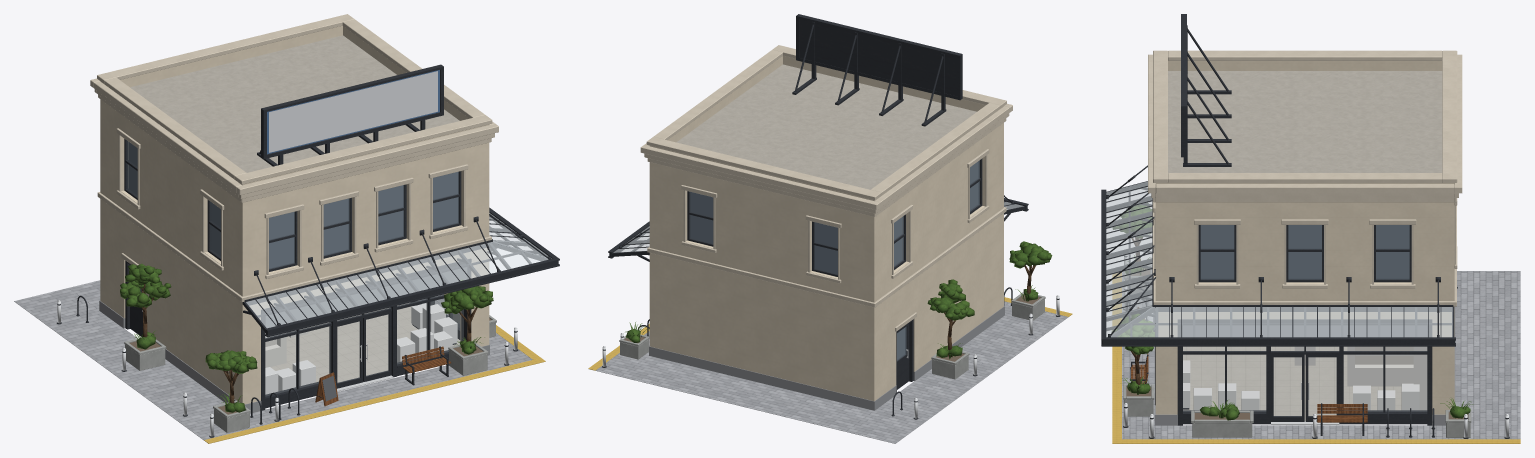
File: shop_canopy_storefront_2story.glb
The picture shows the model from 3 angles, left to right: view 1: azimuth 30°, elevation 25°; view 2: azimuth 150°, elevation 25°; view 3: azimuth 270°, elevation 25°; orthographic projection. The views are drawn at different scales.
Visible parts, largest first — view 1: Floor2_Walls_Stucco_Cream_Limestone, Cornice_Trim_Stone_Limestone_Trim, Roof_Deck_Roof_Gravel_Membrane, GF_Walls_Stucco_Cream_Limestone, Sidewalk_Granite_Sidewalk_Granite_Pavers, Canopy_FrostedGlass_Glass_Canopy_Frosted, Storefront_Glass_Glass_Storefront_Clear, Canopy_Steel_Metal_Anthracite_Steel, rooftop_billboard_face, Floor2_Trim_Stone_Limestone_Trim, Floor2_WinGlass_Glass_Upper_Window, Floor2_WinBacking_Upper_Window_Interior (+19 smaller); view 2: GF_Walls_Stucco_Cream_Limestone, Floor2_Walls_Stucco_Cream_Limestone, Roof_Deck_Roof_Gravel_Membrane, Sidewalk_Granite_Sidewalk_Granite_Pavers, Cornice_Trim_Stone_Limestone_Trim, Rooftop_Sign_Frame_Metal_Anthracite_Steel, Floor2_Trim_Stone_Limestone_Trim, GF_Plinth_Plinth_Dark_Stone, Floor2_WinGlass_Glass_Upper_Window, Parapet_Walls_Stucco_Cream_Limestone, Floor2_WinBacking_Upper_Window_Interior, Planters_Concrete_Concrete_Urban (+6 smaller); view 3: Roof_Deck_Roof_Gravel_Membrane, Floor2_Walls_Stucco_Cream_Limestone, Cornice_Trim_Stone_Limestone_Trim, Sidewalk_Granite_Sidewalk_Granite_Pavers, Canopy_FrostedGlass_Glass_Canopy_Frosted, Storefront_Glass_Glass_Storefront_Clear, Canopy_Steel_Metal_Anthracite_Steel, Showroom_Floor_Showroom_Floor, GF_Walls_Stucco_Cream_Limestone, Floor2_WinGlass_Glass_Upper_Window, Storefront_Frame_Metal_Anthracite_Steel, Floor2_WinBacking_Upper_Window_Interior (+18 smaller).
Part boxes in pixels (bbox=[...]): Floor2_Walls_Stucco_Cream_Limestone: bbox=[100, 99, 489, 302]; Cornice_Trim_Stone_Limestone_Trim: bbox=[90, 14, 498, 202]; Roof_Deck_Roof_Gravel_Membrane: bbox=[130, 35, 459, 172]; GF_Walls_Stucco_Cream_Limestone: bbox=[100, 199, 489, 404]; Sidewalk_Granite_Sidewalk_Granite_Pavers: bbox=[14, 280, 532, 440]; Canopy_FrostedGlass_Glass_Canopy_Frosted: bbox=[246, 213, 551, 328]; Storefront_Glass_Glass_Storefront_Clear: bbox=[266, 294, 463, 395]; Canopy_Steel_Metal_Anthracite_Steel: bbox=[242, 207, 559, 337]; rooftop_billboard_face: bbox=[269, 71, 437, 152]; Floor2_Trim_Stone_Limestone_Trim: bbox=[97, 128, 491, 302]; Floor2_WinGlass_Glass_Upper_Window: bbox=[126, 141, 458, 269]; Floor2_WinBacking_Upper_Window_Interior: bbox=[128, 142, 457, 268]; GF_Walls_Stucco_Cream_Limestone: bbox=[649, 213, 1003, 401]; Floor2_Walls_Stucco_Cream_Limestone: bbox=[649, 123, 1003, 308]; Roof_Deck_Roof_Gravel_Membrane: bbox=[676, 64, 976, 189]; Sidewalk_Granite_Sidewalk_Granite_Pavers: bbox=[595, 301, 1068, 443]; Cornice_Trim_Stone_Limestone_Trim: bbox=[640, 45, 1012, 216]; Rooftop_Sign_Frame_Metal_Anthracite_Steel: bbox=[792, 14, 962, 126]; Floor2_Trim_Stone_Limestone_Trim: bbox=[647, 149, 1006, 307]; GF_Plinth_Plinth_Dark_Stone: bbox=[649, 306, 1004, 410]; Floor2_WinGlass_Glass_Upper_Window: bbox=[689, 160, 979, 274]; Parapet_Walls_Stucco_Cream_Limestone: bbox=[650, 55, 1003, 200]; Floor2_WinBacking_Upper_Window_Interior: bbox=[690, 161, 978, 273]; Planters_Concrete_Concrete_Urban: bbox=[619, 292, 1045, 379]; Roof_Deck_Roof_Gravel_Membrane: bbox=[1168, 71, 1442, 172]; Floor2_Walls_Stucco_Cream_Limestone: bbox=[1155, 202, 1454, 307]; Cornice_Trim_Stone_Limestone_Trim: bbox=[1148, 50, 1462, 202]; Sidewalk_Granite_Sidewalk_Granite_Pavers: bbox=[1122, 271, 1520, 439]; Canopy_FrostedGlass_Glass_Canopy_Frosted: bbox=[1106, 181, 1452, 337]; Storefront_Glass_Glass_Storefront_Clear: bbox=[1183, 347, 1426, 415]; Canopy_Steel_Metal_Anthracite_Steel: bbox=[1101, 181, 1455, 346]; Showroom_Floor_Showroom_Floor: bbox=[1183, 346, 1401, 420]; GF_Walls_Stucco_Cream_Limestone: bbox=[1155, 308, 1454, 414]; Floor2_WinGlass_Glass_Upper_Window: bbox=[1200, 225, 1409, 279]; Storefront_Frame_Metal_Anthracite_Steel: bbox=[1153, 312, 1432, 425]; Floor2_WinBacking_Upper_Window_Interior: bbox=[1200, 225, 1409, 278].
Size of the model in its own units: 12.92 by 10.27 by 12.92.
28 materials, 12 textured.
